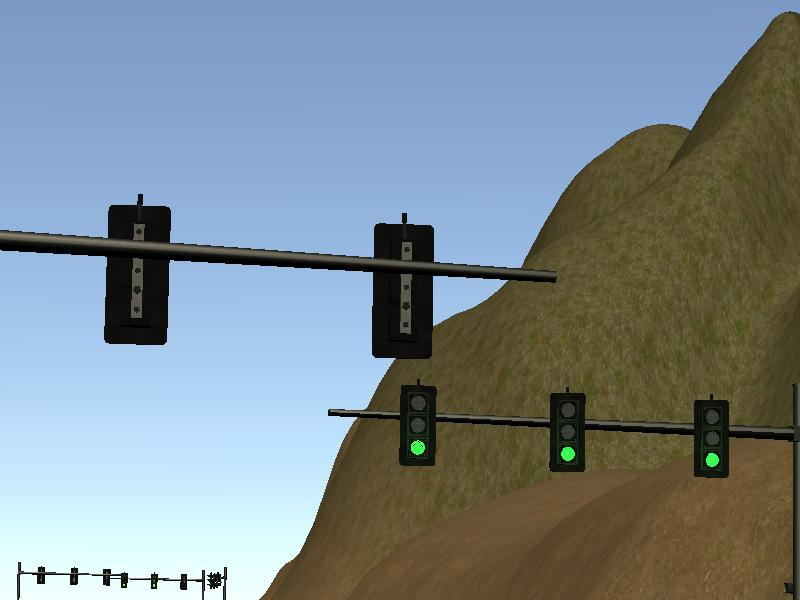Green: (694, 400, 730, 479), (401, 386, 436, 467), (550, 393, 584, 473), (179, 573, 188, 589), (120, 573, 127, 588), (151, 575, 157, 589)
